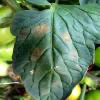Tomato mold leaf: (10, 2, 99, 99)
